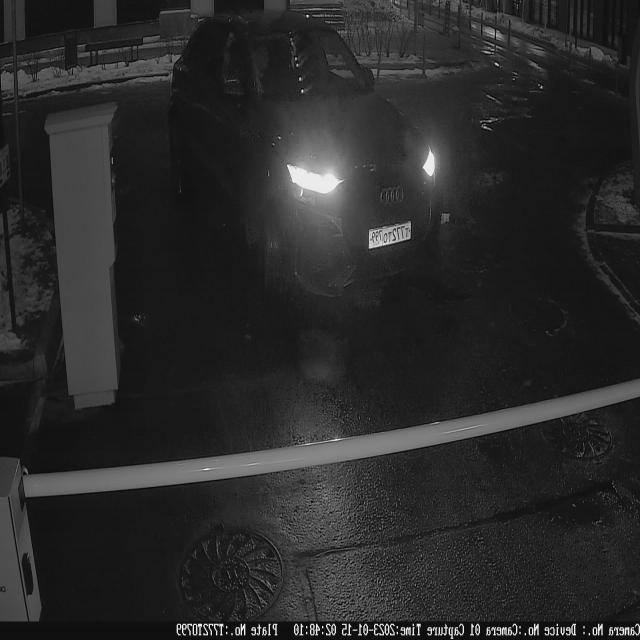car-plate-numbers: (368, 219, 414, 257)
